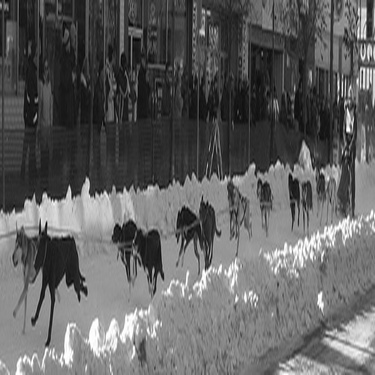dog: (32, 219, 89, 349), (7, 222, 64, 337), (107, 217, 143, 285), (130, 226, 167, 292), (171, 203, 204, 277), (193, 192, 222, 270), (229, 181, 257, 258), (253, 166, 275, 240), (284, 167, 305, 234), (299, 174, 316, 237), (312, 167, 326, 235), (225, 178, 241, 229), (328, 173, 340, 233), (252, 177, 264, 201)
